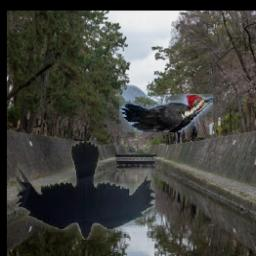Crow: (17, 142, 155, 241)
Woodpecker: (119, 94, 213, 132)
